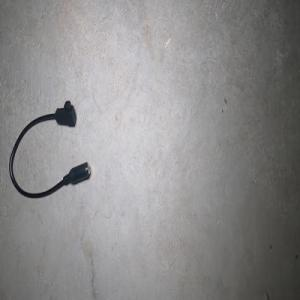Wire: (8, 100, 90, 198)
